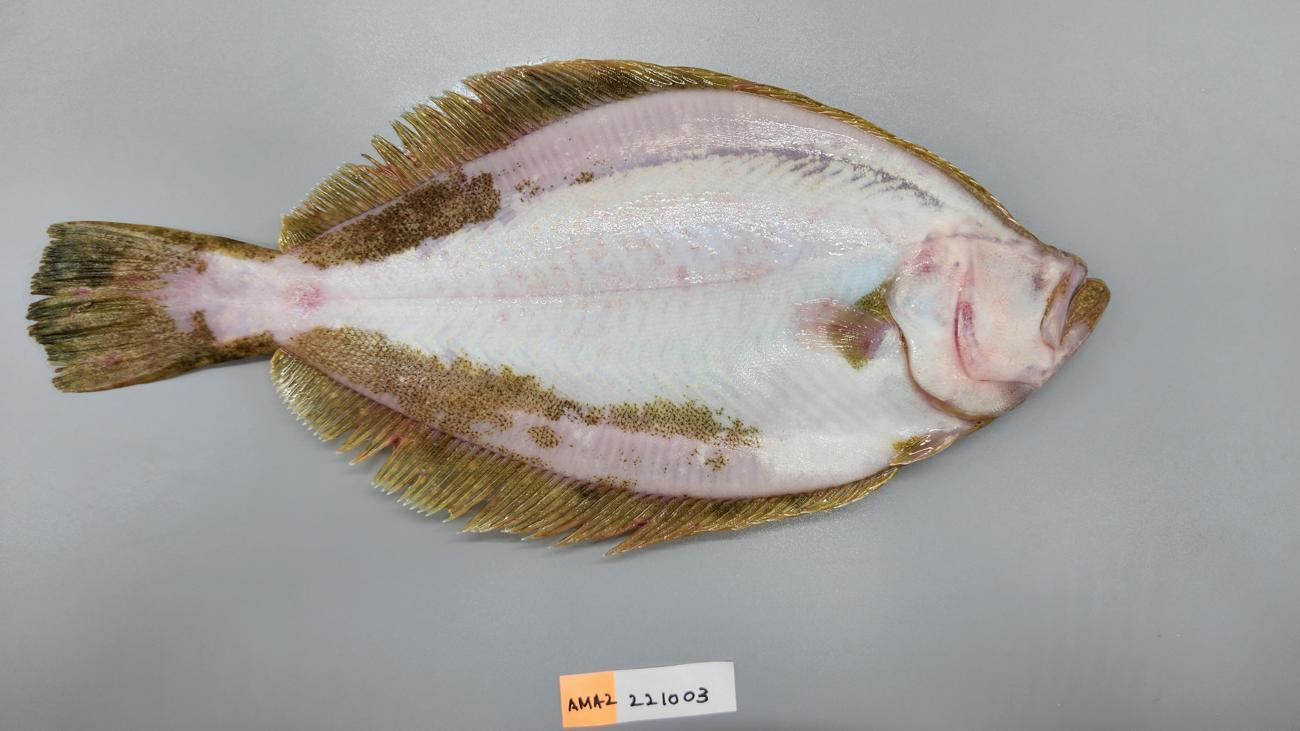MAFDH: (282, 192, 346, 232)
MAOUY: (27, 58, 1110, 559)
